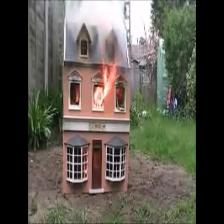fire: (94, 66, 115, 107)
